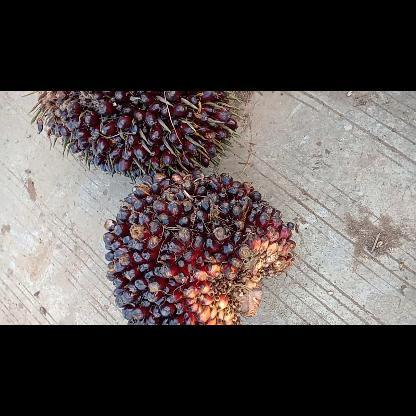TBS mentah: (102, 172, 296, 324), (20, 91, 240, 177)
